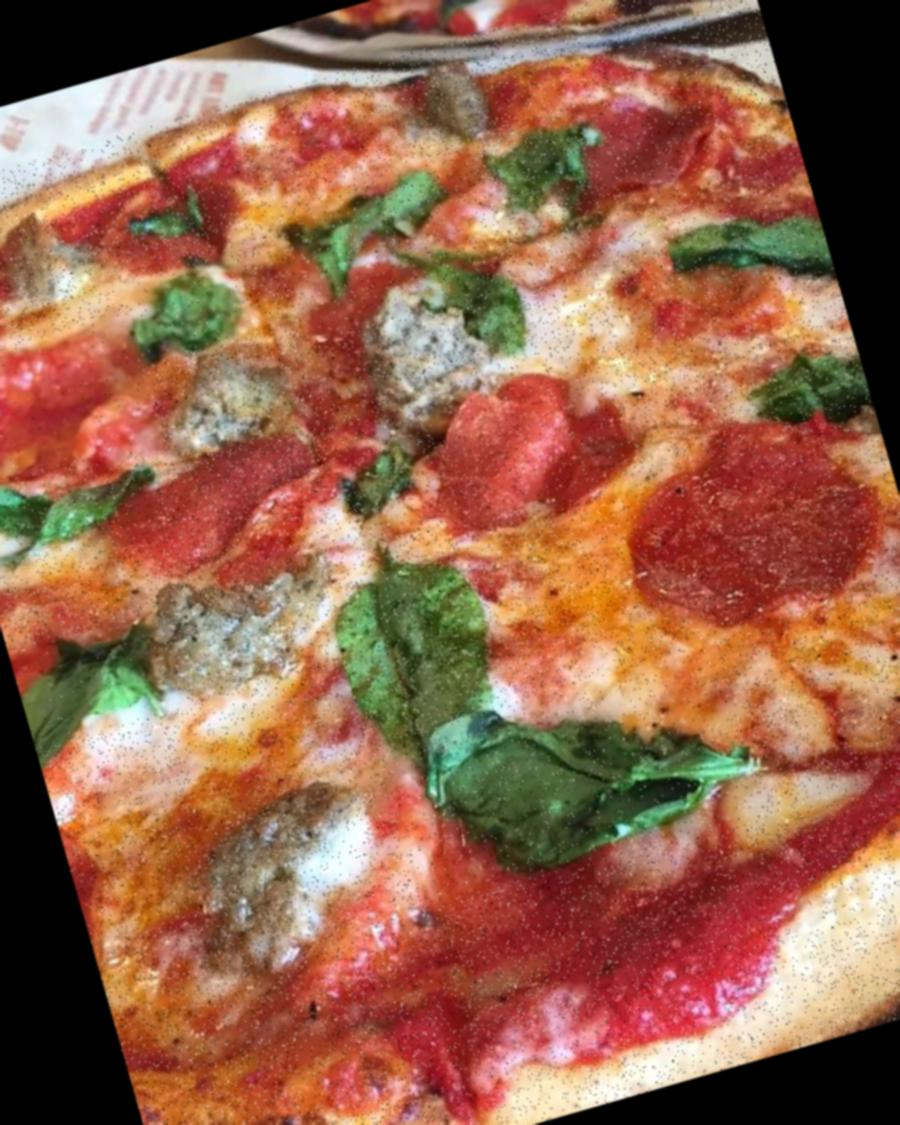Basil: (387, 644, 762, 904), (323, 542, 524, 749), (278, 148, 482, 284), (660, 180, 840, 331), (0, 438, 168, 583), (9, 613, 182, 747), (472, 104, 606, 229), (326, 418, 460, 534), (430, 225, 543, 360), (119, 256, 255, 366), (742, 331, 874, 438), (123, 176, 217, 249)
Pepperoni: (605, 393, 900, 647), (91, 412, 391, 616), (405, 338, 644, 543), (0, 313, 165, 507), (542, 65, 742, 221), (293, 244, 454, 341)
Pizza: (0, 0, 900, 1125)
